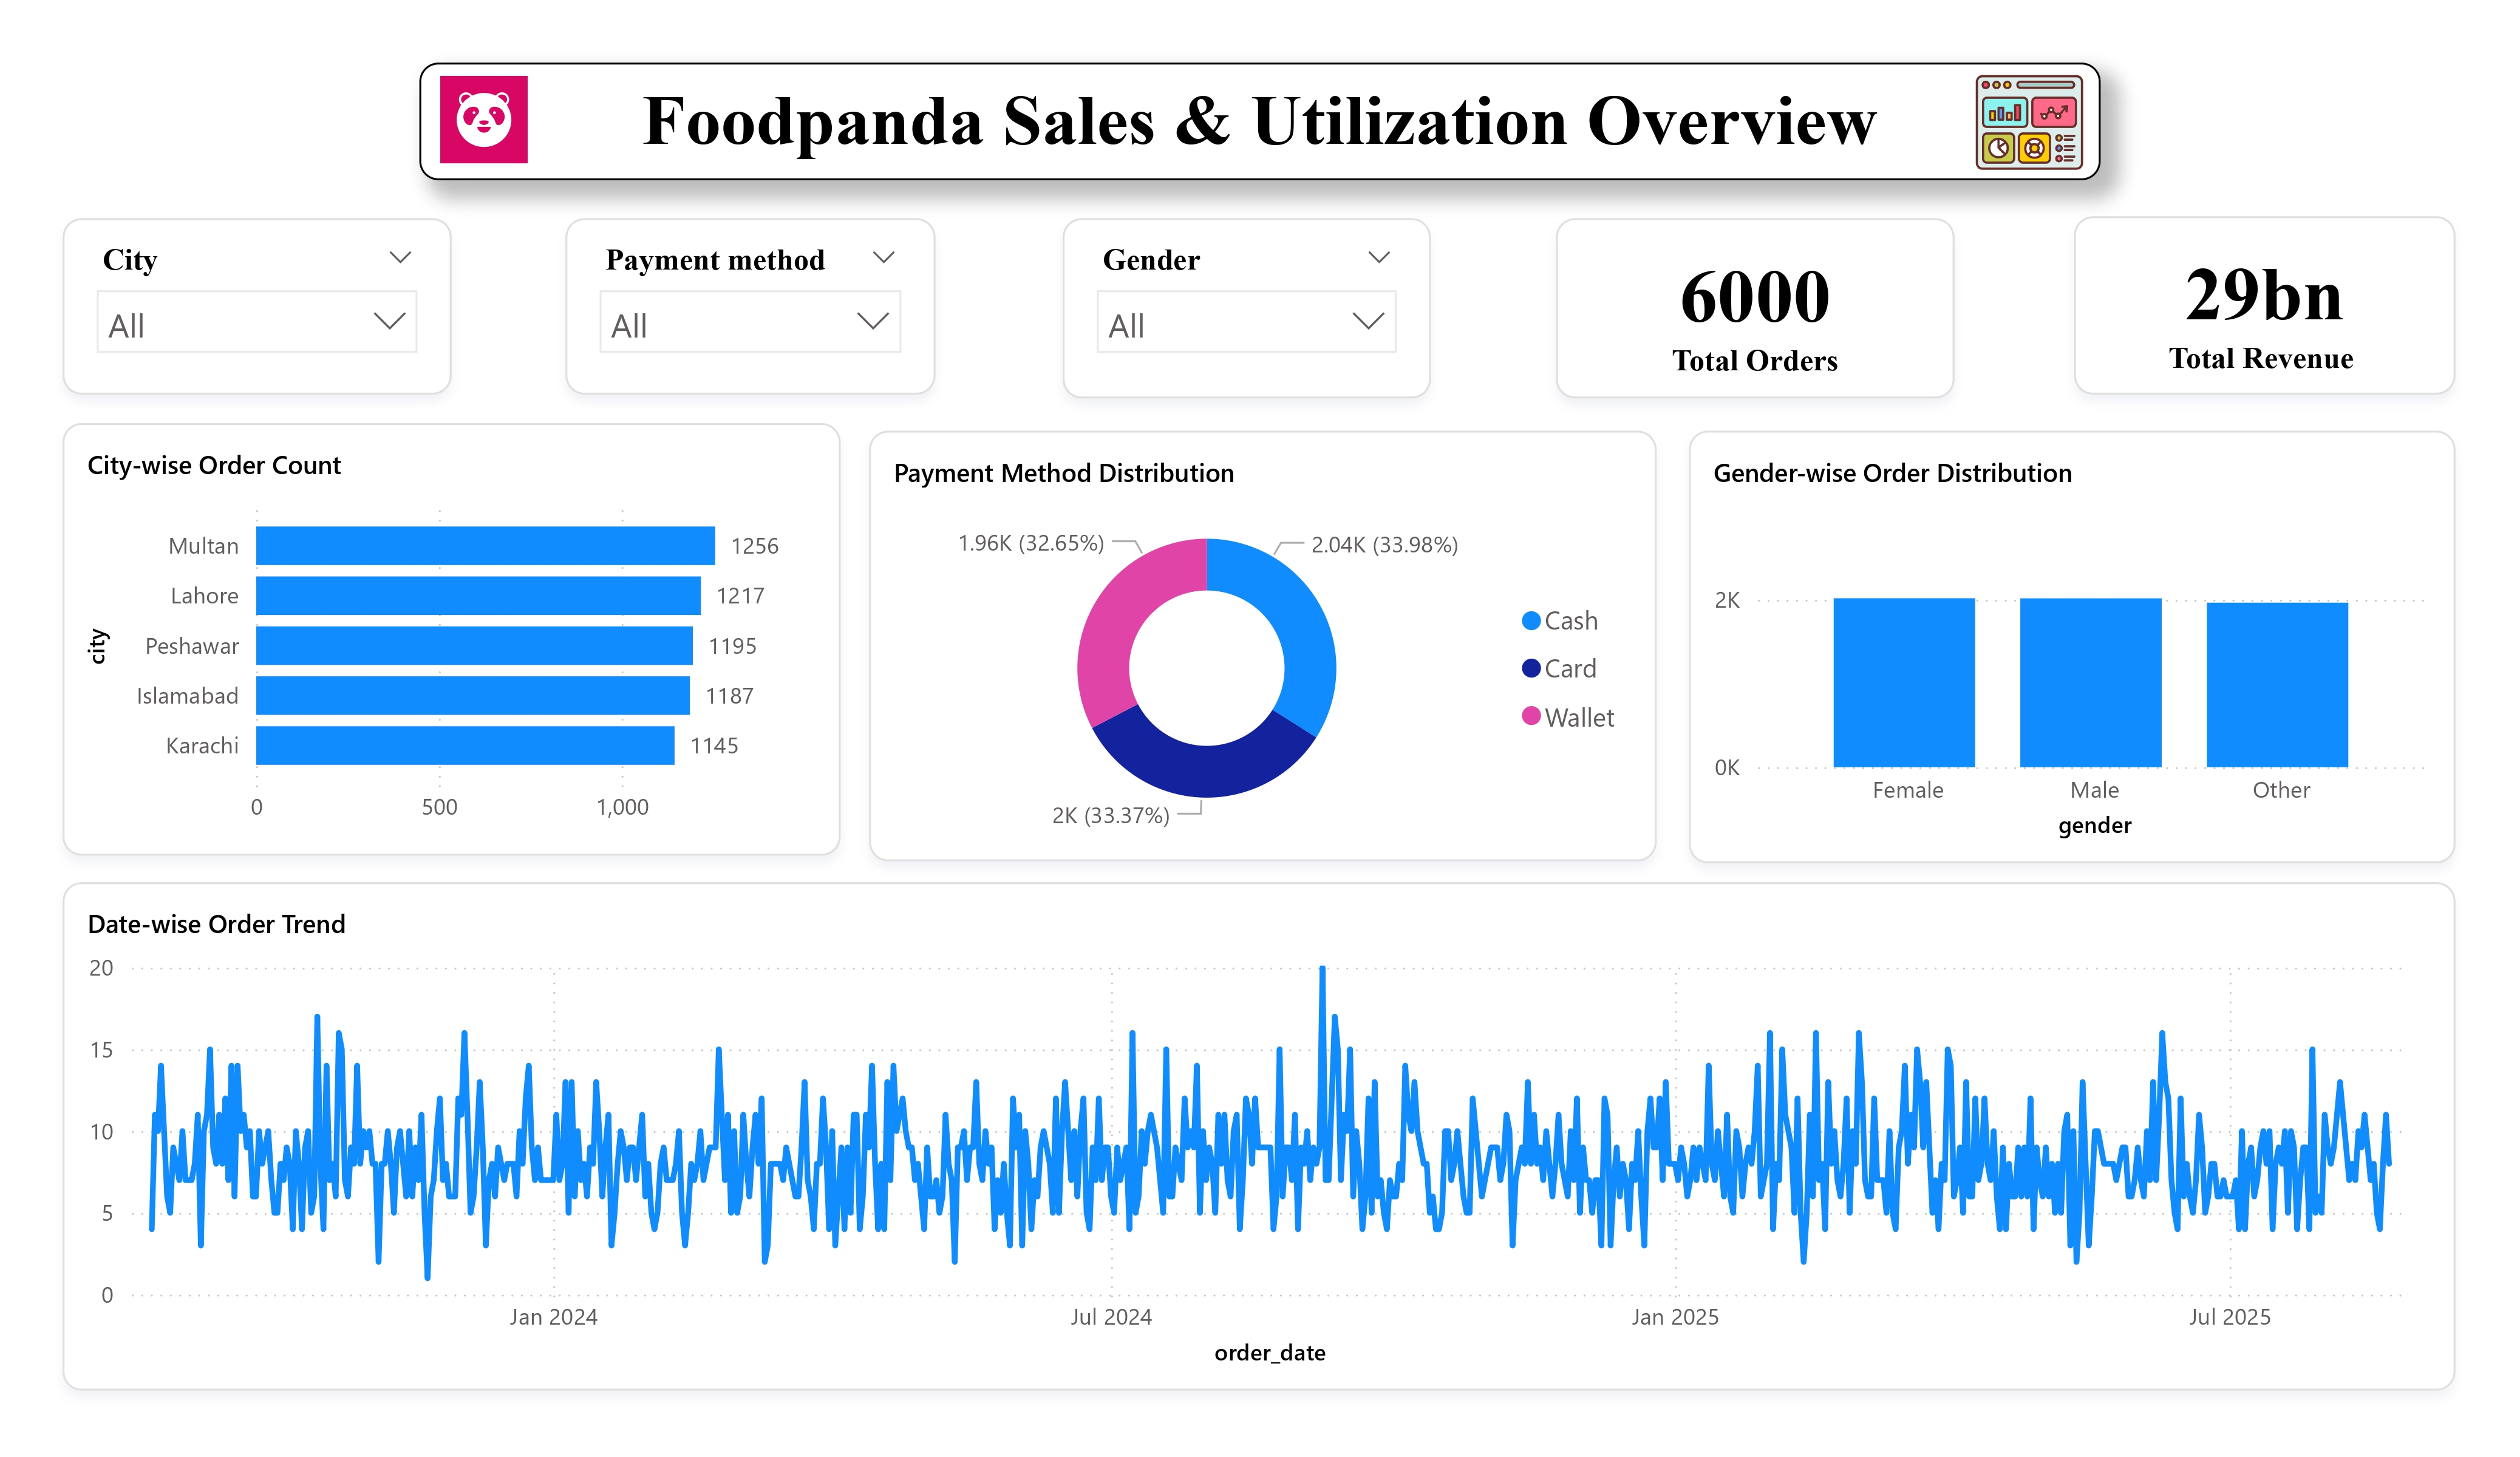

The dashboard page shown, as its layout file describes it:
{"tool":"powerbi","page":{"name":"Page 1 Sales & Utilization Overview","canvas":[1280,720],"ordinal":0},"visuals":[{"type":"barChart","title":"City-wise Order Count","fields":{"Category":["Foodpanda Analysis Dataset.city"],"Y":["CountNonNull(Foodpanda Analysis Dataset.order_id)"]},"box":[8.6,198.6,410,228.6],"z":0},{"type":"donutChart","title":"Payment Method Distribution","fields":{"Category":["Foodpanda Analysis Dataset.payment_method"],"Y":["CountNonNull(Foodpanda Analysis Dataset.order_id)"]},"box":[434.3,202.9,414.3,227.1],"z":1000},{"type":"lineChart","title":"Date-wise Order Trend\t","fields":{"Y":["CountNonNull(Foodpanda Analysis Dataset.order_id)"],"Category":["Foodpanda Analysis Dataset.order_date"]},"box":[8.6,441.4,1261.4,267.1],"z":2000},{"type":"card","fields":{"Values":["CountNonNull(Foodpanda Analysis Dataset.order_id)"]},"box":[795.7,91.4,210,94.3],"z":3000},{"type":"card","fields":{"Values":["Sum(Foodpanda Analysis Dataset.total_revenue)"]},"box":[1068.6,90,201.4,94.3],"z":4000},{"type":"slicer","fields":{"Values":["Foodpanda Analysis Dataset.city"]},"box":[8.6,91.4,205.7,92.9],"z":5000},{"type":"columnChart","title":"Gender-wise Order Distribution","fields":{"Category":["Foodpanda Analysis Dataset.gender"],"Y":["CountNonNull(Foodpanda Analysis Dataset.order_id)"]},"box":[865.7,202.9,404.3,228.6],"z":6000},{"type":"slicer","fields":{"Values":["Foodpanda Analysis Dataset.payment_method"]},"box":[274.3,91.4,194.3,92.9],"z":7000},{"type":"textbox","box":[197.1,8.6,885.7,62.9],"z":8000},{"type":"slicer","fields":{"Values":["Foodpanda Analysis Dataset.gender"]},"box":[535.7,91.4,194.3,94.3],"z":9000},{"type":"image","box":[198.6,11.4,64.3,55.7],"z":10000},{"type":"image","box":[1011.4,4.3,68.6,72.9],"z":11000}]}

Visuals, with their boxes in screenshot pixels (x1, y1, x2, y2):
"City-wise Order Count" barChart: x1=62, y1=423, x2=840, y2=856
"Payment Method Distribution" donutChart: x1=870, y1=430, x2=1656, y2=861
"Date-wise Order Trend	" lineChart: x1=62, y1=883, x2=2456, y2=1390
card - CountNonNull(Foodpanda Analysis Dataset.order_id): x1=1556, y1=219, x2=1954, y2=398
card - Sum(Foodpanda Analysis Dataset.total_revenue): x1=2073, y1=216, x2=2456, y2=395
slicer - Foodpanda Analysis Dataset.city: x1=62, y1=219, x2=452, y2=395
"Gender-wise Order Distribution" columnChart: x1=1688, y1=430, x2=2456, y2=864
slicer - Foodpanda Analysis Dataset.payment_method: x1=566, y1=219, x2=935, y2=395
textbox: x1=420, y1=62, x2=2100, y2=181
slicer - Foodpanda Analysis Dataset.gender: x1=1062, y1=219, x2=1431, y2=398
image: x1=423, y1=67, x2=545, y2=173
image: x1=1965, y1=53, x2=2095, y2=192
